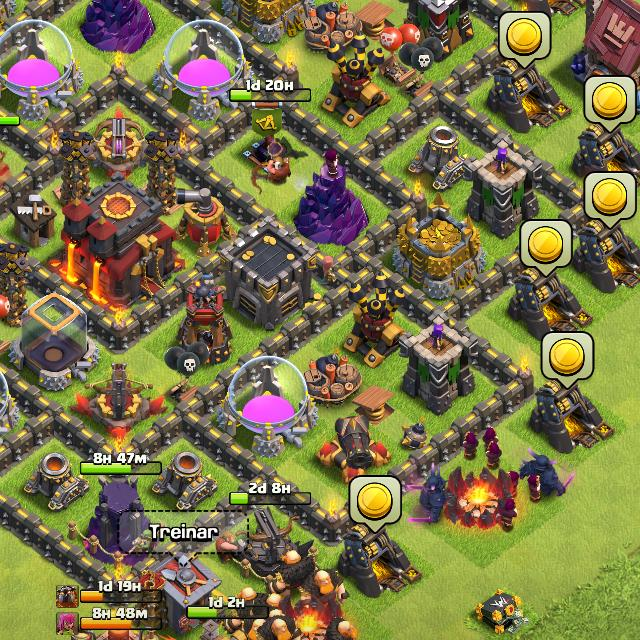coin: (346, 474, 404, 534), (583, 74, 638, 134), (541, 331, 596, 391), (497, 12, 552, 70), (583, 171, 636, 228), (520, 219, 573, 276)
